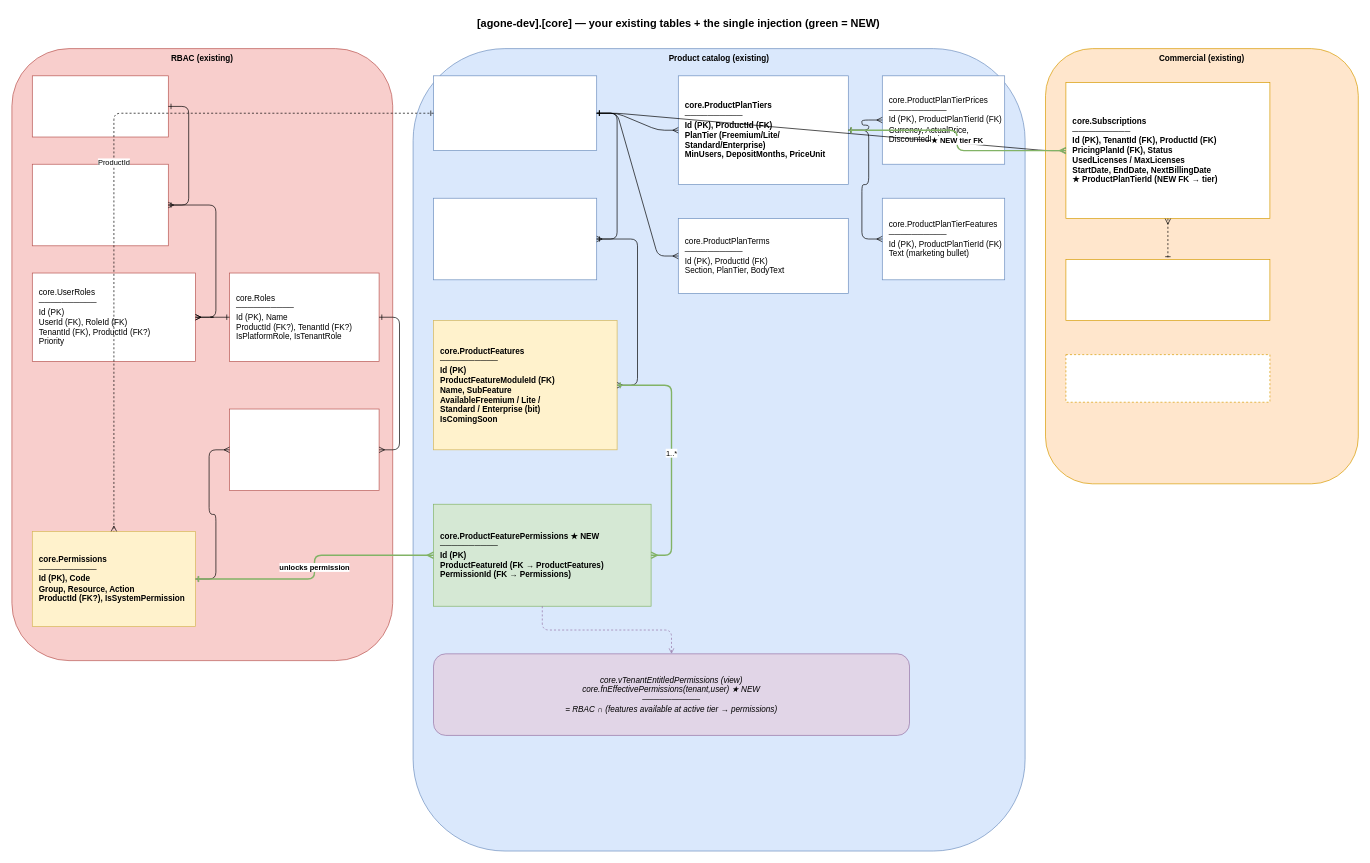
This 1370x863 diagram has some shape labels left out. Each missing label, with the box of its shape:
core.PricingPlans ────────── Id (PK) (existing, referenced): (1065, 259, 1270, 321)
core.ProductFeatureModules ────────── Id (PK) ProductId (FK) Name, SortOrder: (433, 198, 597, 280)
core.Products ────────── Id (PK), Code, Name IsComingSoon, IsActive: (433, 75, 597, 151)
core.RolePermissions ────────── Id (PK) RoleId (FK) PermissionId (FK): (229, 408, 379, 491)
core.Tenants (customer org — shared): (1065, 354, 1270, 402)
core.Tenants ────────── Id (PK) Name: (32, 75, 168, 137)
core.Users ────────── Id (PK) Email, TenantId (FK) ManagerId, IsActive: (32, 164, 168, 246)
